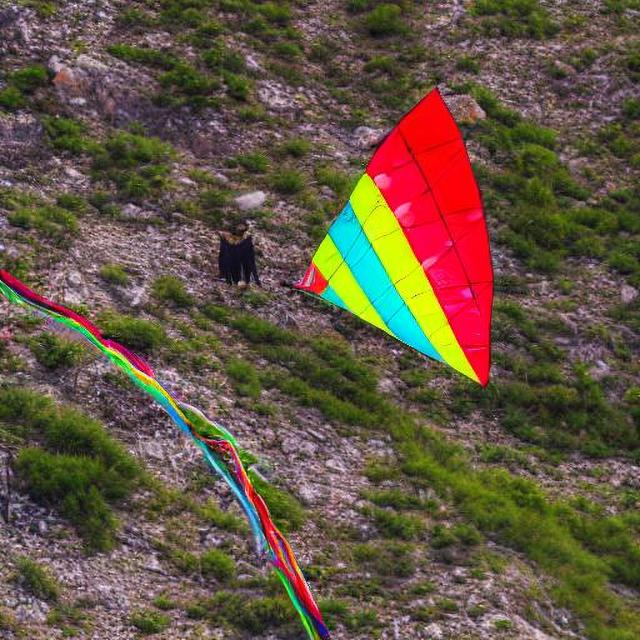floating object: (12, 262, 324, 628), (296, 87, 496, 380), (216, 230, 256, 284)
